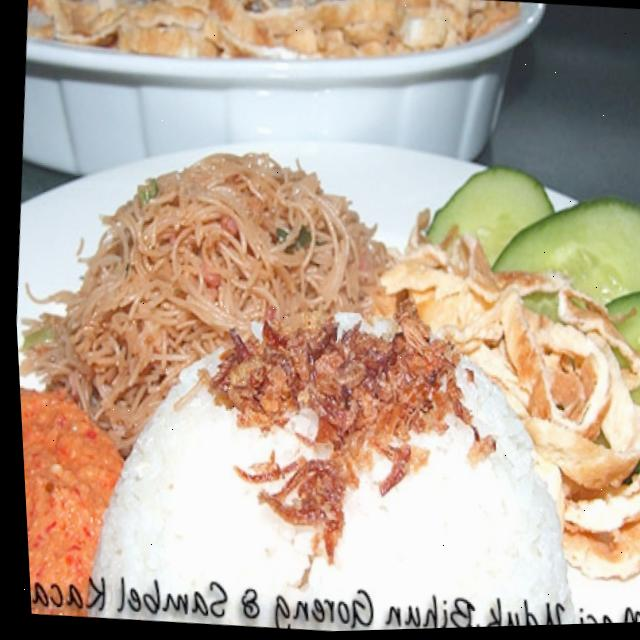米饭主食: (4, 92, 640, 640)
